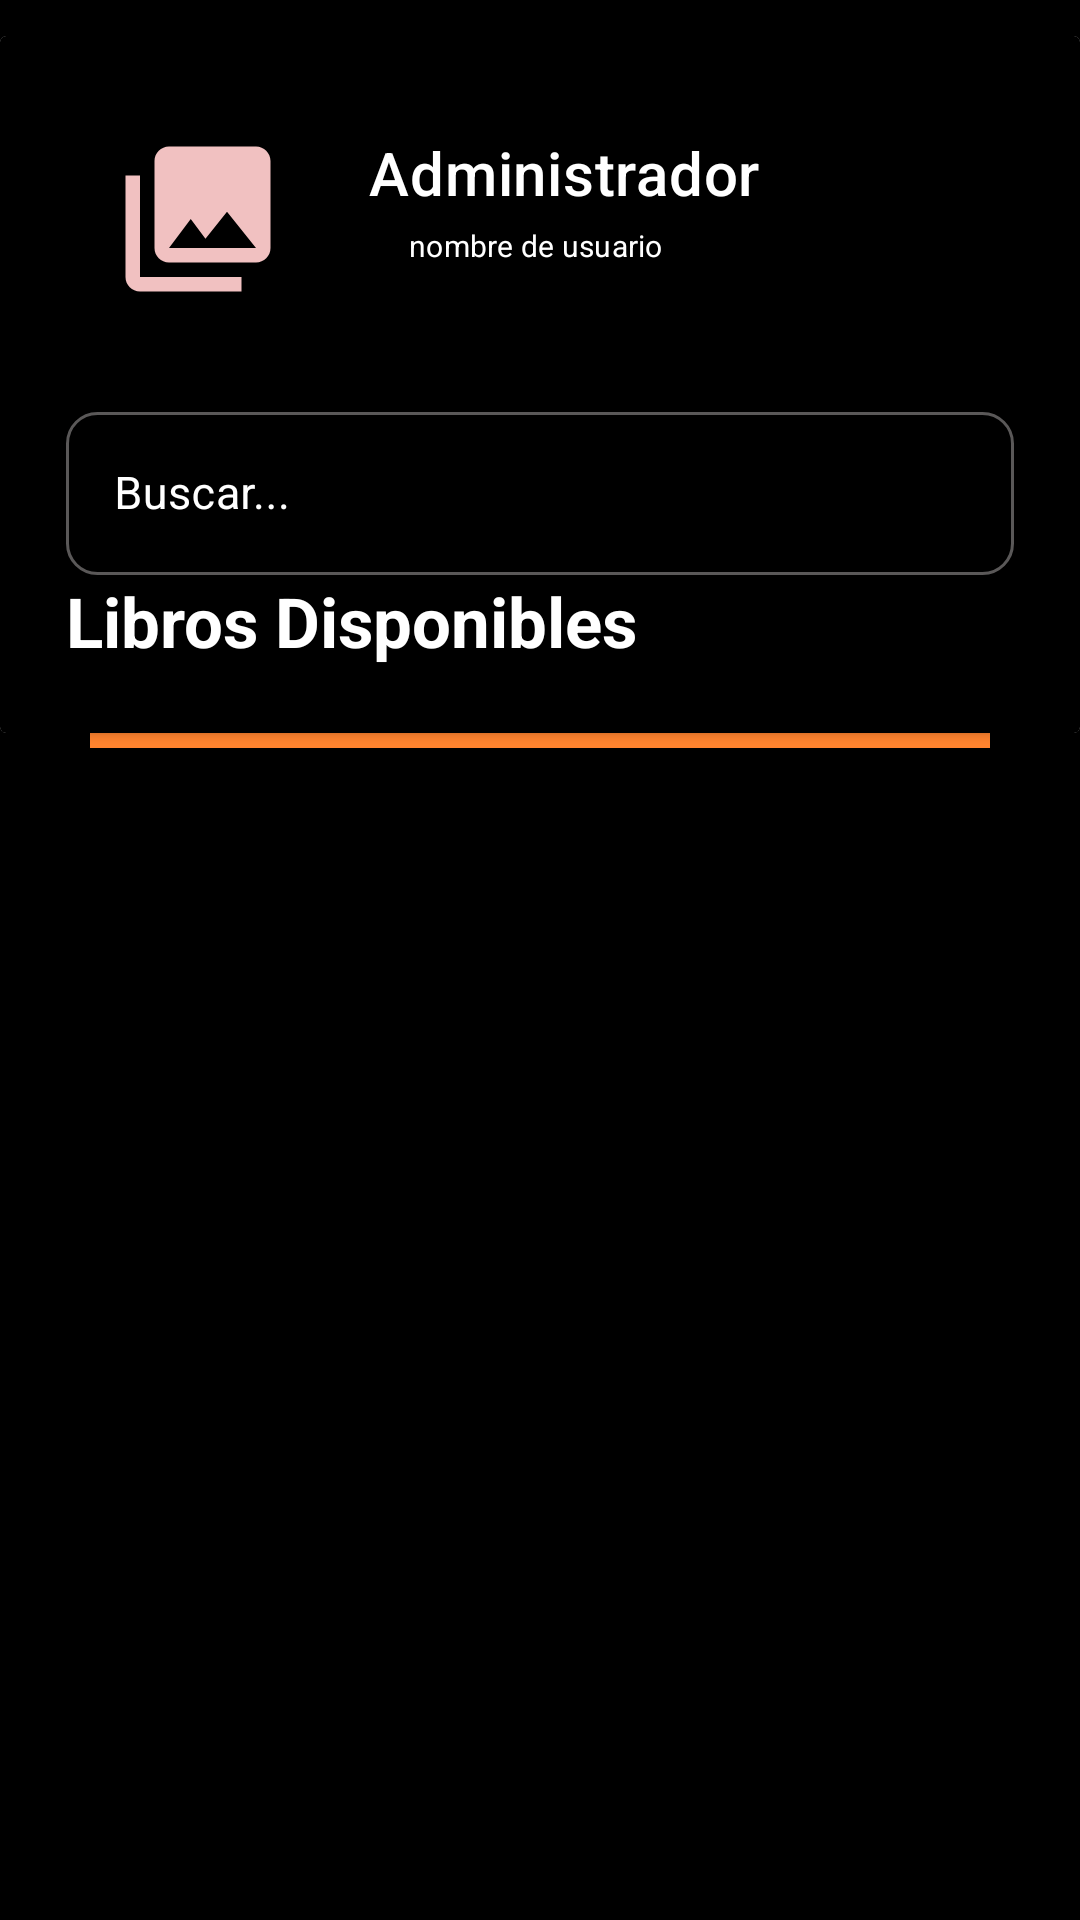

Point at icon controls on the screen. Image size 1080 x 1920, points as (x=x, y=y).
librosinfoto: (x=198, y=219)
